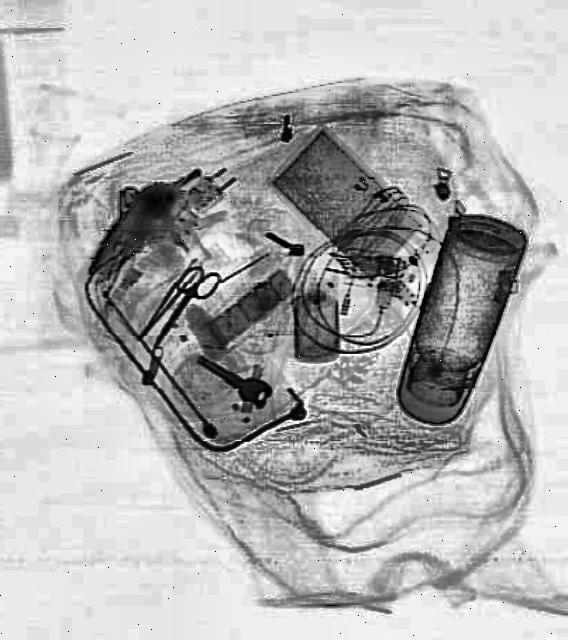Scissors: (142, 259, 226, 359)
